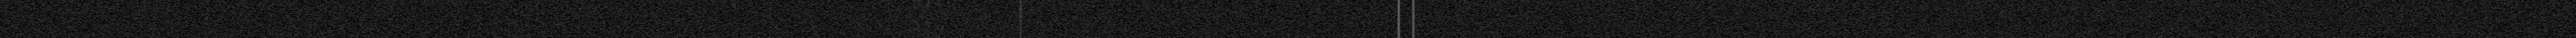wv_am: (1411, 0, 1414, 38)
wv_cw: (1395, 0, 1403, 38)
wv_usb: (1019, 0, 1022, 38)
wv_wbfm: (895, 0, 958, 38)
